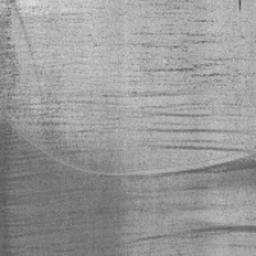Waist folding: (0, 0, 256, 190), (172, 218, 256, 238), (134, 233, 171, 242)
